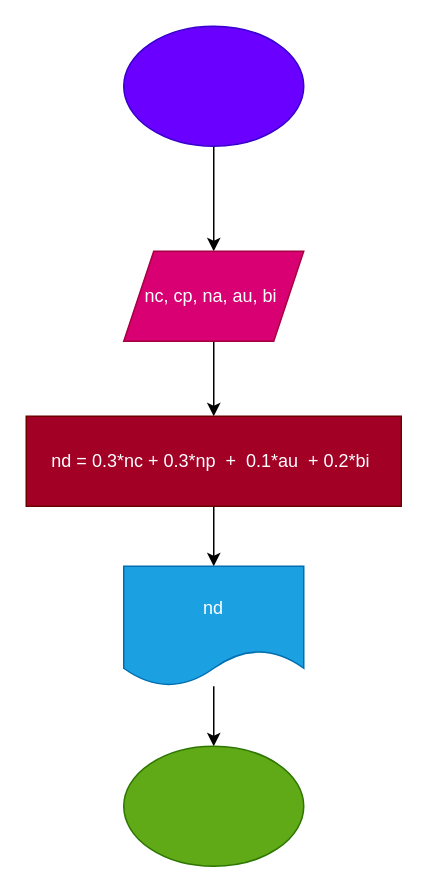
This 428x893 diagram has some shape labels left out. The centre of each missing label's shape, as x and y in pixels:
FIn: (x=213, y=805)
INICIO: (x=213, y=85)
